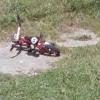Motorcycle: (4, 27, 70, 64)
